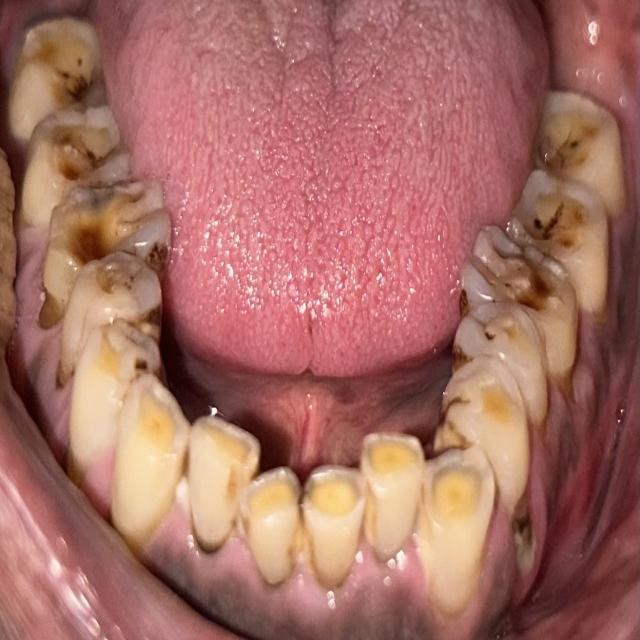processing_area: (88, 0, 551, 385)
